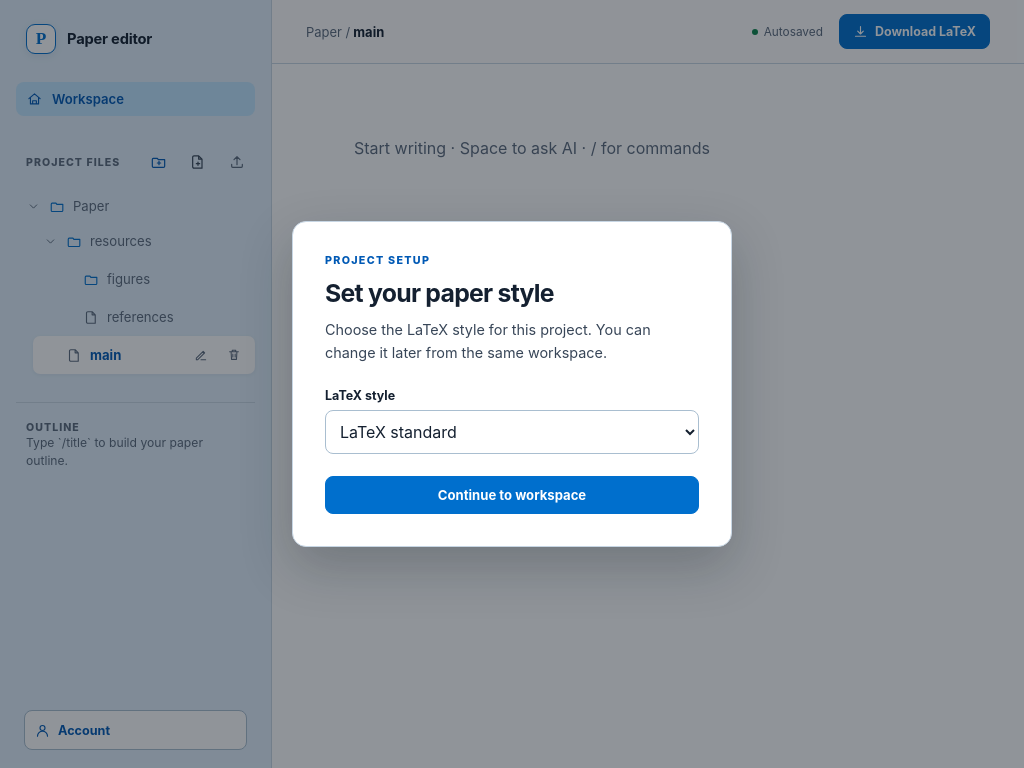
BlockEditor › asks for the LaTeX style only when creating a project
Check: the dialog "Set your paper style" is shown, box [292,221,732,547]
Select "Nature" in the dropdown named "Project LaTeX style" at (512, 432), box [325,410,699,454]
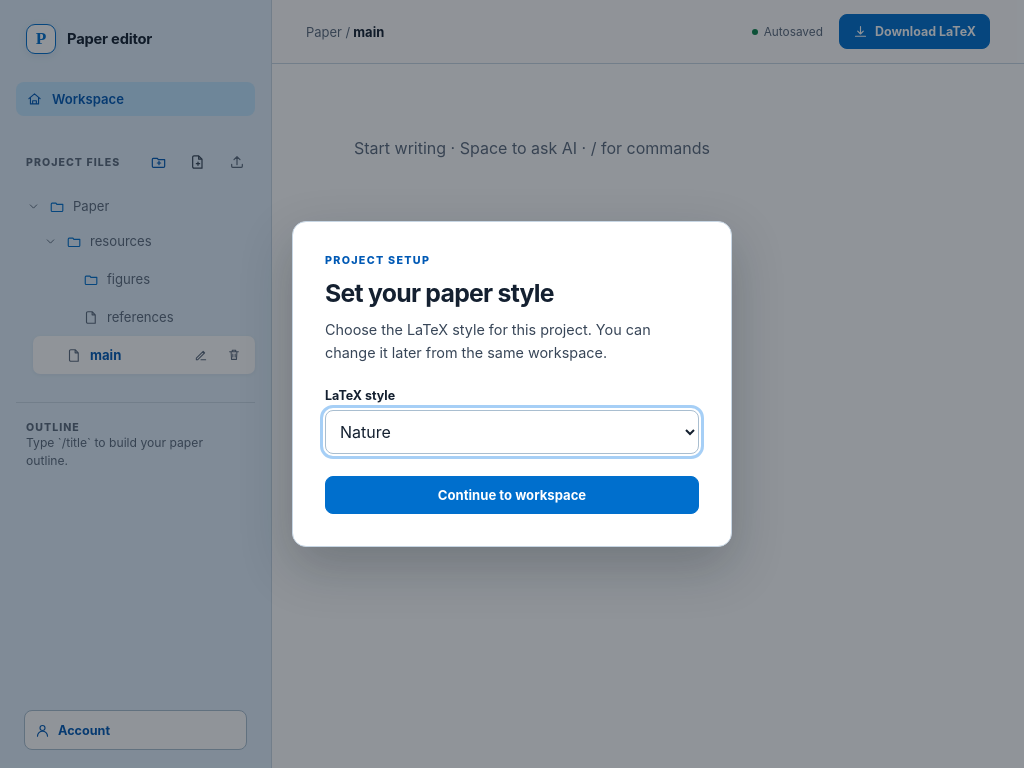
Click the button "Continue to workspace" at (512, 495), box [325,476,699,514]
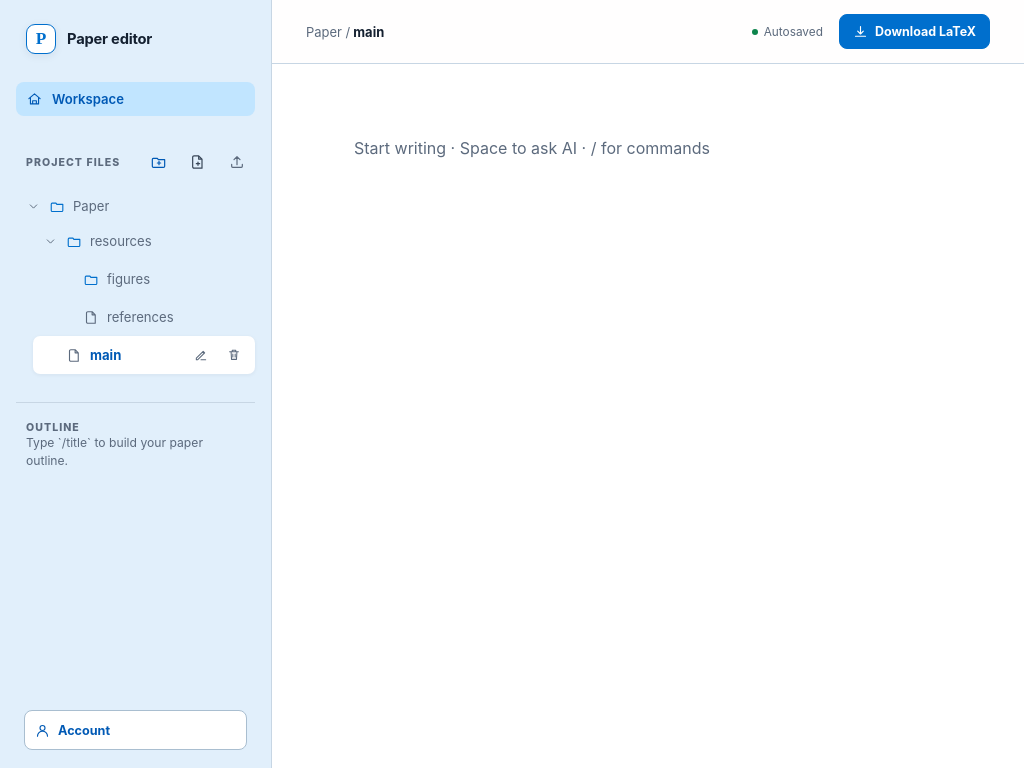
Check: the heading "Set your paper style" is gone
